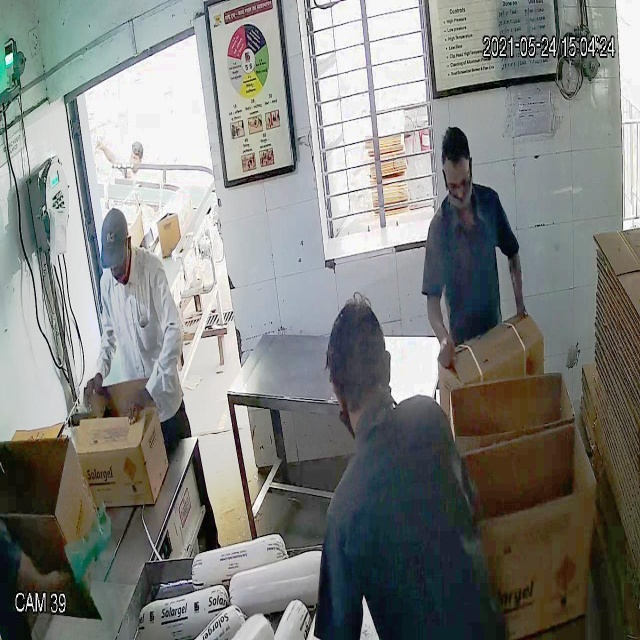Gafas: (441, 164, 476, 201)
